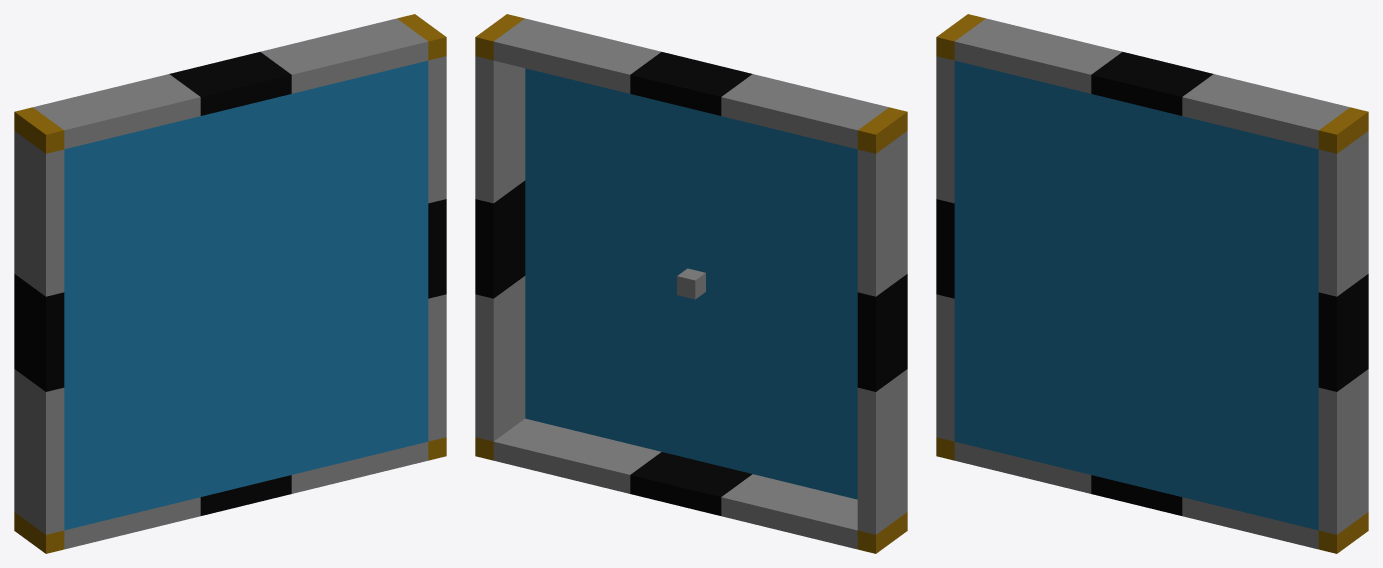
The model's file is TestRoom1TEST.fbx.
3 renders of one model, left to right at view 1: azimuth 30°, elevation 25°; view 2: azimuth 150°, elevation 25°; view 3: azimuth 330°, elevation 25°, orthographic.
Parts seen in each view (by area): view 1: BG, RightHalfWallT_1, RightHalfWallB_1, TopHalfWallR, TopHalfWallL, DoorR, DoorT, RightHalfWallB, RightHalfWallT, BottomHalfWallR, BottomHalfWallL, DoorL (+4 smaller); view 2: BG, RightHalfWallB, RightHalfWallT_1, RightHalfWallB_1, TopHalfWallR, BottomHalfWallR, TopHalfWallL, RightHalfWallT, BottomHalfWallL, DoorR, DoorL, DoorT (+5 smaller); view 3: BG, RightHalfWallT, RightHalfWallB, TopHalfWallL, TopHalfWallR, DoorL, DoorT, RightHalfWallB_1, RightHalfWallT_1, BottomHalfWallL, BottomHalfWallR, DoorR (+4 smaller).
Boxes of the visible parts, x1=… form: BG: x1=64, y1=60, x2=428, y2=530; RightHalfWallT_1: x1=14, y1=131, x2=64, y2=296; RightHalfWallB_1: x1=14, y1=369, x2=64, y2=534; TopHalfWallR: x1=260, y1=18, x2=428, y2=93; TopHalfWallL: x1=33, y1=74, x2=200, y2=149; DoorR: x1=14, y1=274, x2=64, y2=391; DoorT: x1=169, y1=52, x2=291, y2=115; RightHalfWallB: x1=428, y1=294, x2=446, y2=441; RightHalfWallT: x1=428, y1=56, x2=446, y2=203; BottomHalfWallR: x1=291, y1=442, x2=428, y2=493; BottomHalfWallL: x1=64, y1=497, x2=200, y2=549; DoorL: x1=428, y1=199, x2=446, y2=298; BG: x1=525, y1=68, x2=857, y2=499; RightHalfWallB: x1=475, y1=276, x2=525, y2=441; RightHalfWallT_1: x1=857, y1=131, x2=907, y2=296; RightHalfWallB_1: x1=857, y1=369, x2=907, y2=534; TopHalfWallR: x1=493, y1=18, x2=661, y2=93; BottomHalfWallR: x1=493, y1=418, x2=661, y2=493; TopHalfWallL: x1=721, y1=74, x2=888, y2=149; RightHalfWallT: x1=475, y1=56, x2=525, y2=203; BottomHalfWallL: x1=721, y1=474, x2=857, y2=549; DoorR: x1=857, y1=274, x2=907, y2=391; DoorL: x1=475, y1=180, x2=525, y2=298; DoorT: x1=630, y1=52, x2=752, y2=115; BG: x1=954, y1=60, x2=1318, y2=530; RightHalfWallT: x1=1318, y1=131, x2=1368, y2=296; RightHalfWallB: x1=1318, y1=369, x2=1368, y2=534; TopHalfWallL: x1=954, y1=18, x2=1122, y2=93; TopHalfWallR: x1=1182, y1=74, x2=1349, y2=149; DoorL: x1=1318, y1=274, x2=1368, y2=391; DoorT: x1=1091, y1=52, x2=1213, y2=115; RightHalfWallB_1: x1=936, y1=294, x2=954, y2=441; RightHalfWallT_1: x1=936, y1=56, x2=954, y2=203; BottomHalfWallL: x1=954, y1=442, x2=1091, y2=493; BottomHalfWallR: x1=1182, y1=497, x2=1318, y2=549; DoorR: x1=936, y1=199, x2=954, y2=298.
Size of the model in its own units: 2200 by 2200 by 300.
